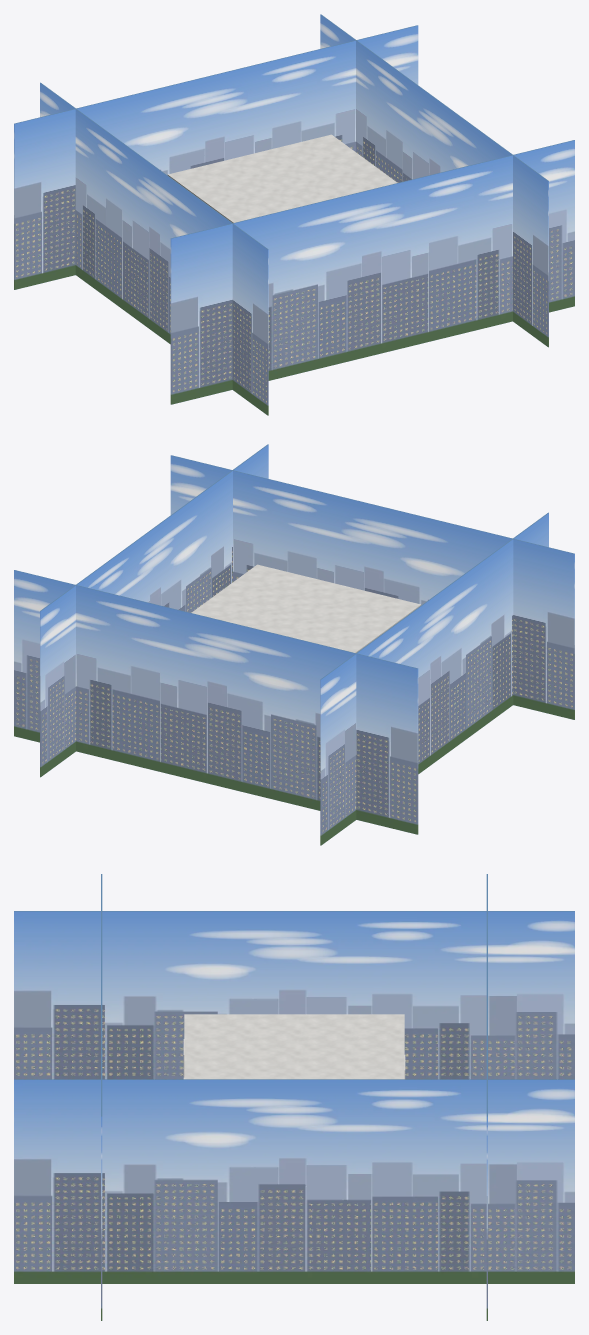
The model's file is interior.glb.
The picture shows the model from 3 angles, top to bottom: view 1: azimuth 30°, elevation 25°; view 2: azimuth 150°, elevation 25°; view 3: azimuth 270°, elevation 25°; orthographic projection. The views are drawn at different scales.
Visible parts, largest first — view 1: Sky_Front, Sky_Back, Sky_West, Sky_East, Ceiling; view 2: Sky_Back, Sky_Front, Sky_West, Sky_East, Ceiling; view 3: Sky_East, Sky_West, Ceiling, Sky_Back, Sky_Front.
Boxes of the visible parts, <box> form: Sky_Front: <box>170,140,574,404</box>; Sky_Back: <box>14,25,418,289</box>; Sky_West: <box>40,82,268,415</box>; Sky_East: <box>320,14,548,347</box>; Ceiling: <box>167,134,397,222</box>; Sky_Back: <box>14,570,418,834</box>; Sky_Front: <box>170,455,574,719</box>; Sky_West: <box>320,512,548,845</box>; Sky_East: <box>40,444,268,777</box>; Ceiling: <box>191,564,421,652</box>; Sky_East: <box>14,1079,574,1283</box>; Sky_West: <box>14,911,574,1079</box>; Ceiling: <box>184,1014,404,1079</box>; Sky_Back: <box>486,874,487,1320</box>; Sky_Front: <box>101,874,102,1320</box>.
Bounding box in the file's own units: 22.9 × 9 × 22.4.
Materials: 20 (20 with a texture image).
